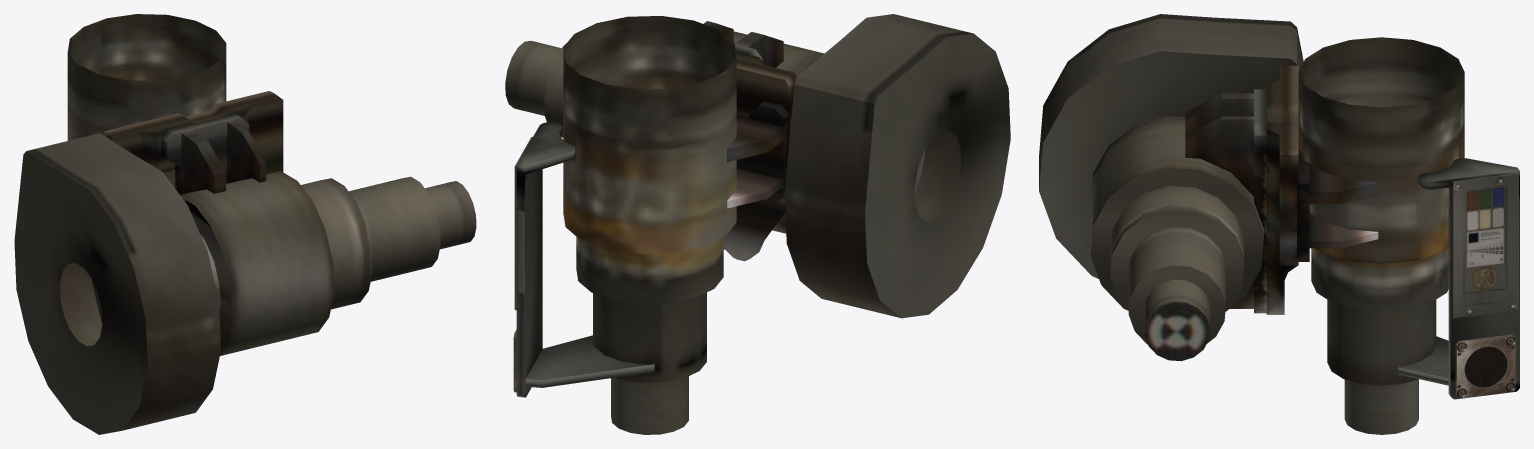
Rendered from arm_01_fixed.dae.
3 views of the same model, side by side, from view 1: azimuth 30°, elevation 25°; view 2: azimuth 150°, elevation 25°; view 3: azimuth 270°, elevation 25° (orthographic). The views are drawn at different scales.
Parts seen in each view (by area): view 1: arm_01; view 2: arm_01, MAHLI_calibration_target; view 3: arm_01, MAHLI_calibration_target.
Part boxes in pixels (bbox=[...]): arm_01: bbox=[14, 14, 476, 434]; arm_01: bbox=[505, 14, 1010, 434]; MAHLI_calibration_target: bbox=[513, 122, 654, 397]; arm_01: bbox=[1039, 14, 1464, 434]; MAHLI_calibration_target: bbox=[1398, 158, 1519, 399].
Bounding box in the file's own units: 0.3569 × 0.3774 × 0.3005.
3 materials, 3 textured.
